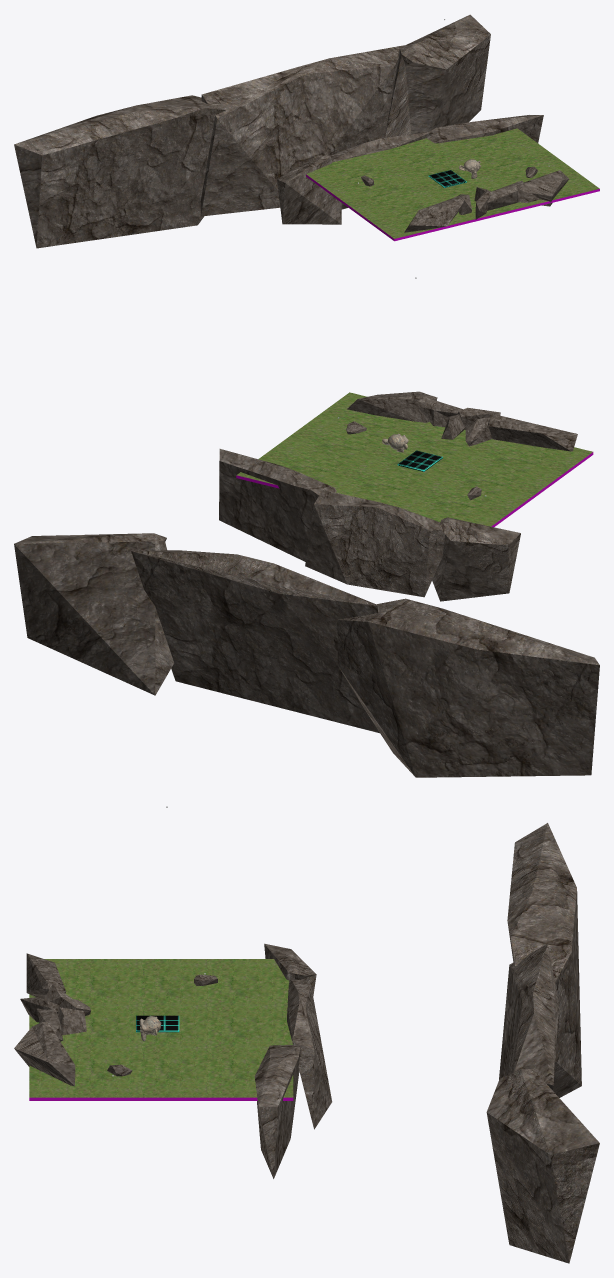
File: harvest.obj
The picture shows the model from 3 angles, top to bottom: view 1: azimuth 30°, elevation 25°; view 2: azimuth 150°, elevation 25°; view 3: azimuth 270°, elevation 25°; orthographic projection. The views are drawn at different scales.
Visible parts, largest first — view 1: Cube_Cube.001; view 2: Cube_Cube.001; view 3: Cube_Cube.001.
Part boxes in pixels (bbox=[...]): Cube_Cube.001: bbox=[14, 14, 599, 248]; Cube_Cube.001: bbox=[14, 391, 599, 777]; Cube_Cube.001: bbox=[14, 823, 599, 1263].
Bounding box in the file's own units: 290 × 160 × 223.
6 materials, 4 textured.
